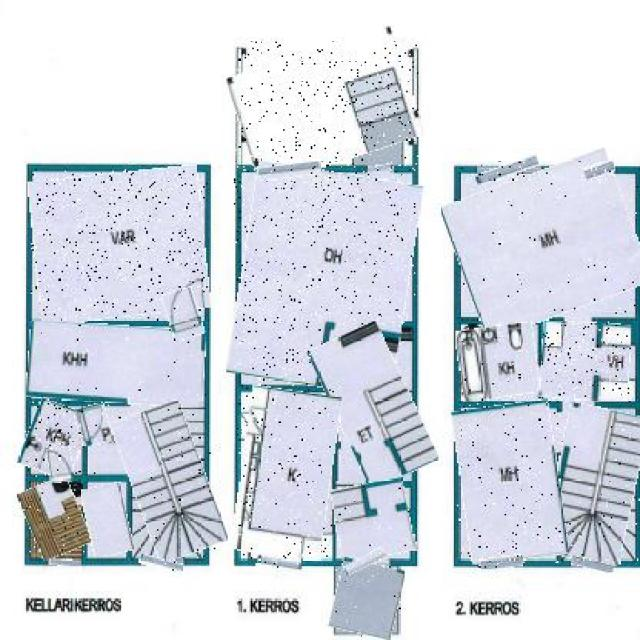door: (164, 288, 202, 338), (77, 403, 111, 445), (48, 448, 74, 482)
window: (476, 160, 538, 180), (258, 165, 320, 180), (343, 552, 388, 571), (257, 555, 301, 574), (139, 557, 183, 572), (479, 556, 523, 570), (571, 557, 614, 571), (584, 162, 616, 178), (368, 165, 394, 180), (50, 560, 78, 566)
zone: (234, 166, 415, 392), (449, 160, 640, 328), (31, 168, 208, 320), (234, 38, 418, 175), (457, 402, 563, 563), (237, 388, 335, 558), (322, 325, 424, 486), (122, 402, 216, 560), (546, 404, 640, 562), (28, 323, 206, 406), (540, 322, 631, 402), (336, 480, 416, 560), (458, 323, 538, 400), (332, 560, 402, 637), (23, 478, 88, 557), (88, 409, 163, 474), (23, 401, 86, 477), (84, 483, 130, 555)
